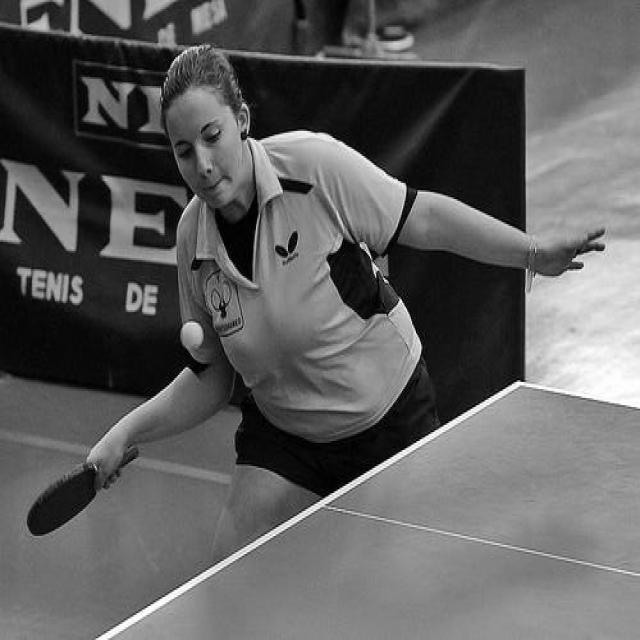ping-pong-ball: (180, 318, 206, 352)
